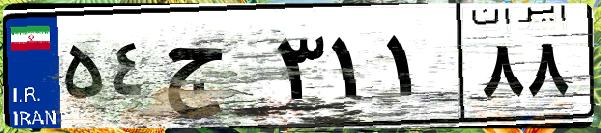1: (385, 28, 445, 110), (330, 28, 385, 110)
3: (270, 28, 330, 110)
4: (110, 28, 158, 98)
5: (57, 26, 110, 100)
8: (475, 38, 525, 113), (525, 38, 570, 115)
ج: (158, 20, 270, 120)
